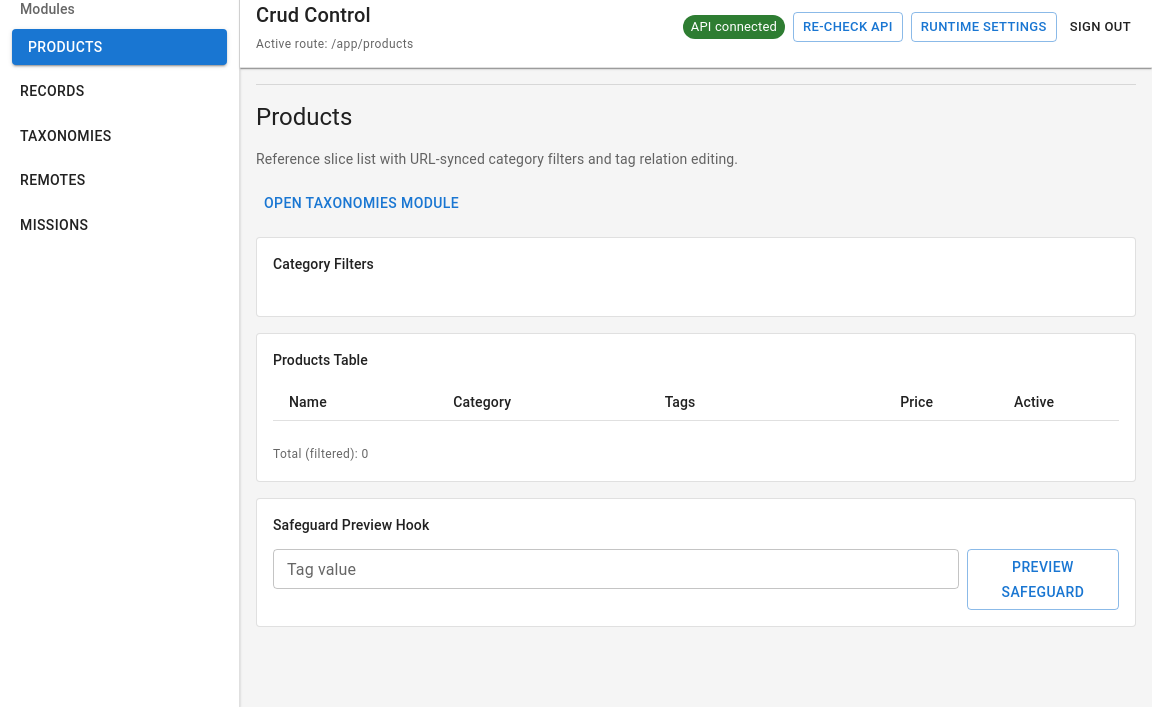
Test case: Products and taxonomies safeguards › safeguard hook renders structured safeguard payload
Expected: the heading "Products" is shown, [256,103,352,131]
In the field labelled "Tag value": (616, 569) [273,549,959,589], type "New Tag"
(page scrolled)
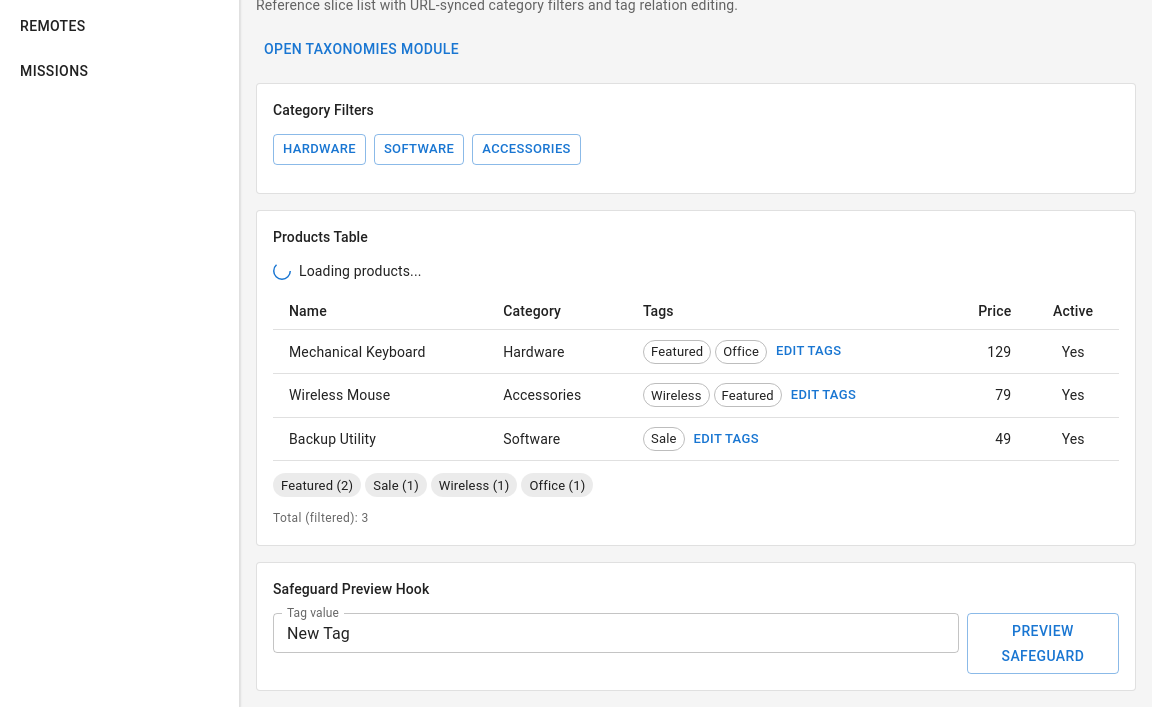
Click the button "Preview safeguard": (1043, 644) [967,613,1119,674]
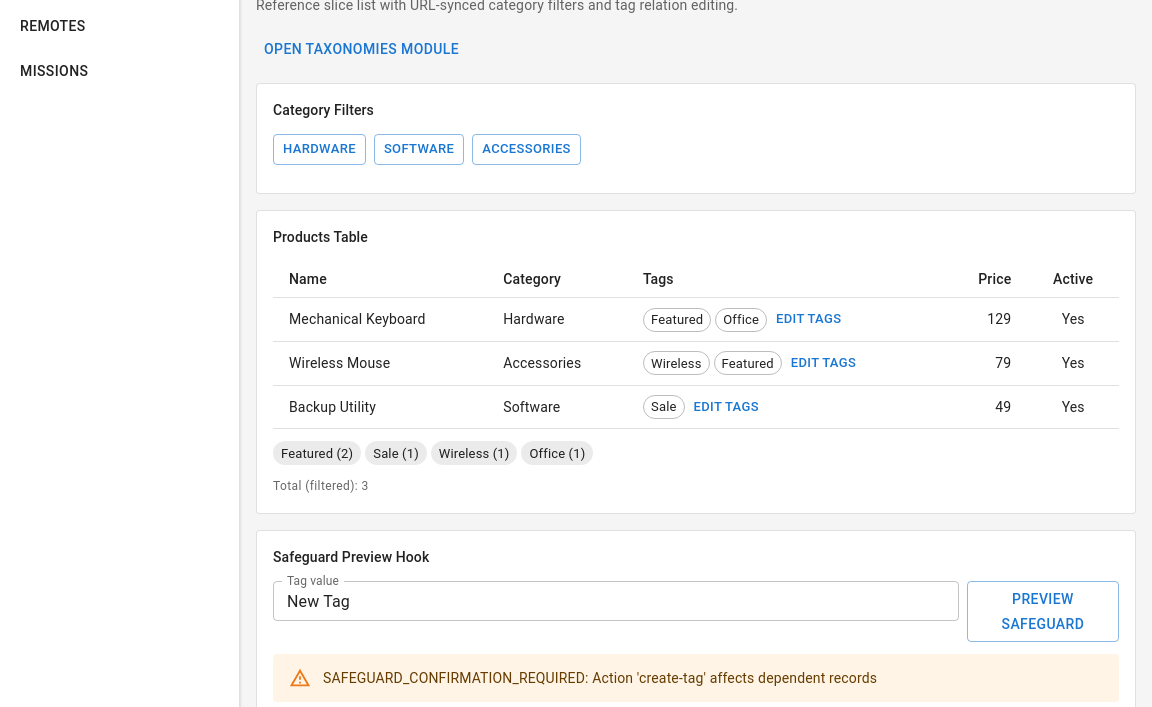
Now the text "SAFEGUARD_CONFIRMATION_REQUIRED: Action 'create-tag' affects dependent records" is shown, box [323,670,877,686]
